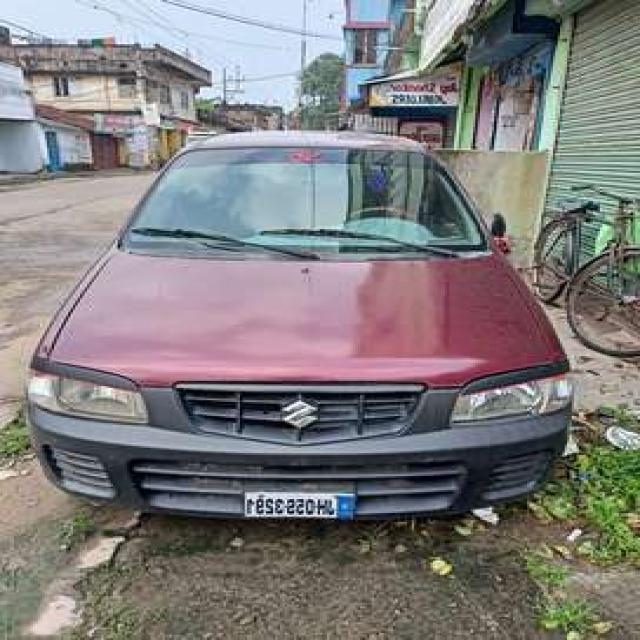license_plate: (243, 492, 357, 521)
